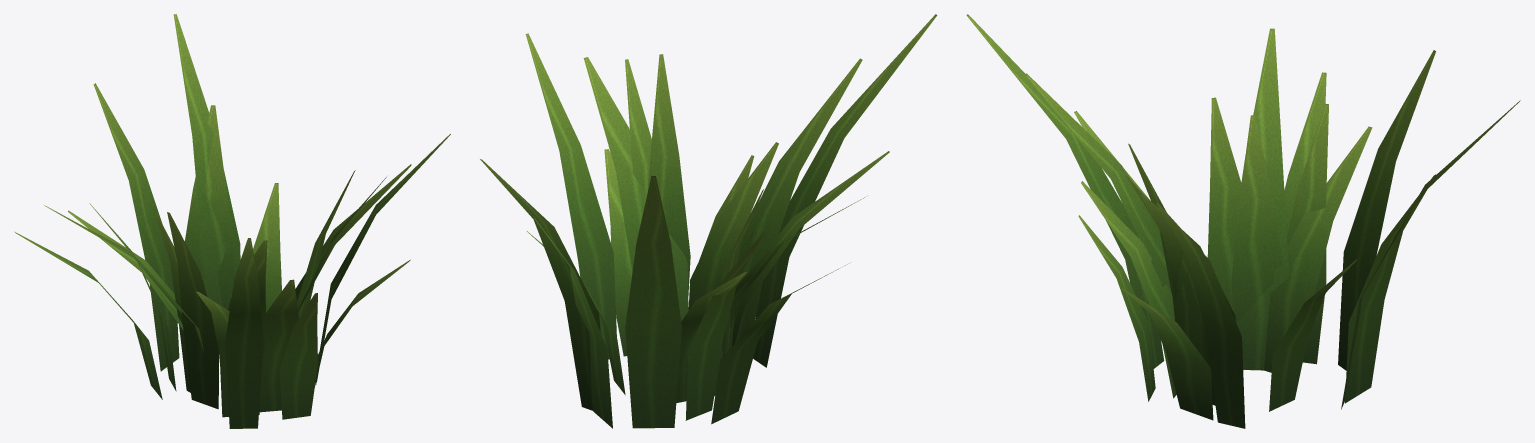
Rendered from tuft_tall.glb.
The picture shows the model from 3 angles, left to right: view 1: azimuth 30°, elevation 25°; view 2: azimuth 150°, elevation 25°; view 3: azimuth 270°, elevation 25°; orthographic projection. The views are drawn at different scales.
Visible parts, largest first — view 1: model; view 2: model; view 3: model.
Part boxes in pixels (bbox=[...]): model: bbox=[14, 14, 450, 428]; model: bbox=[480, 14, 937, 428]; model: bbox=[966, 14, 1520, 428].
Bounding box in the file's own units: 0.7433 × 0.5394 × 0.8559.
Materials: 1 (1 with a texture image).
